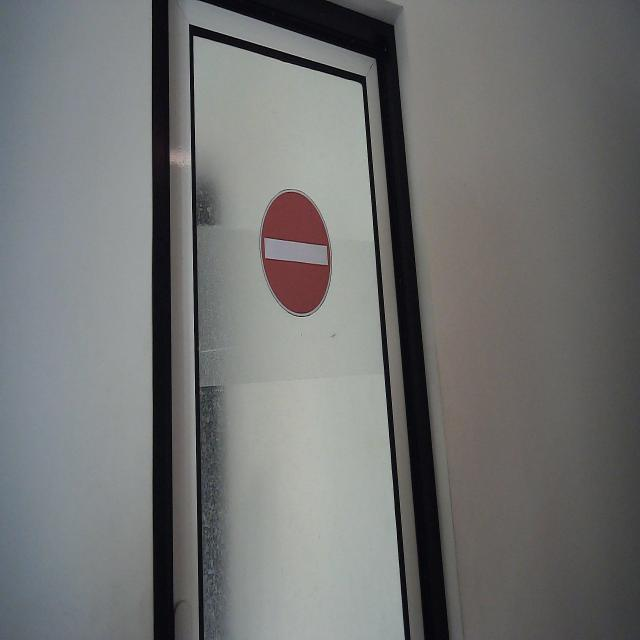no_entry: (258, 186, 334, 320)
